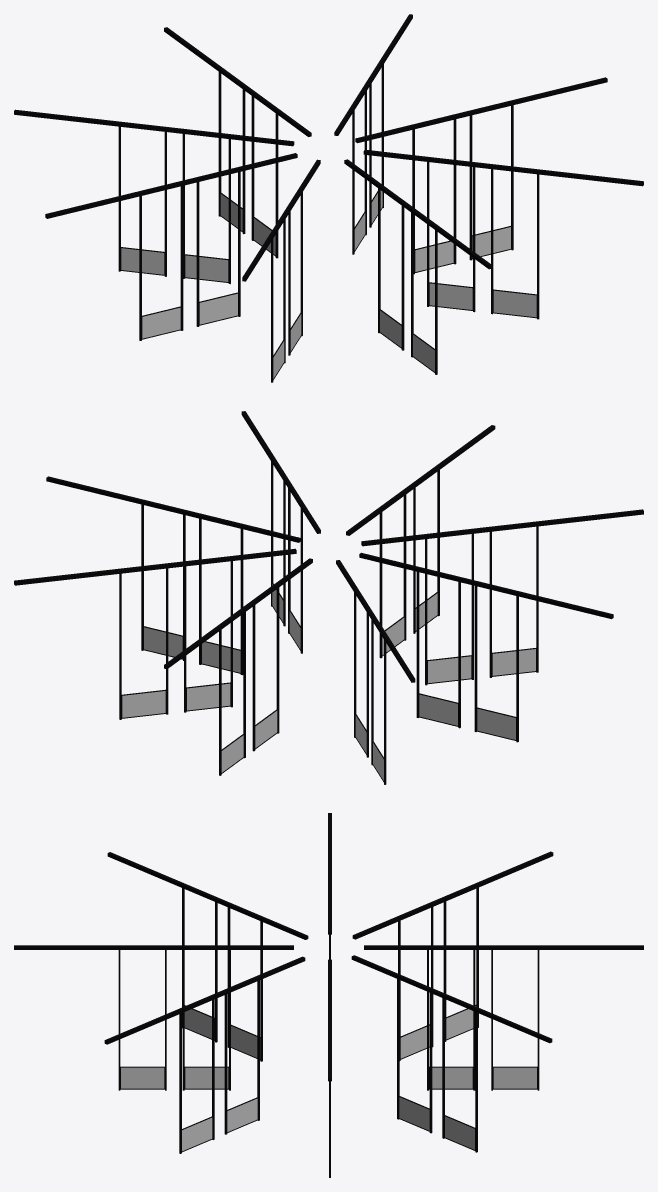
The model's file is MEO_Hanging_Pictures.fbx.
3 views of the same model, one above another, from view 1: azimuth 30°, elevation 25°; view 2: azimuth 150°, elevation 25°; view 3: azimuth 270°, elevation 25° (orthographic). The views are drawn at different scales.
Parts seen in each view (by area): view 1: RFL_Hanging_Pictures; view 2: RFL_Hanging_Pictures; view 3: RFL_Hanging_Pictures.
Boxes of the visible parts, bbox=[...] form: RFL_Hanging_Pictures: bbox=[14, 14, 643, 382]; RFL_Hanging_Pictures: bbox=[14, 411, 643, 784]; RFL_Hanging_Pictures: bbox=[14, 813, 643, 1177].
Bounding box in the file's own units: 3358 × 854 × 3374.
